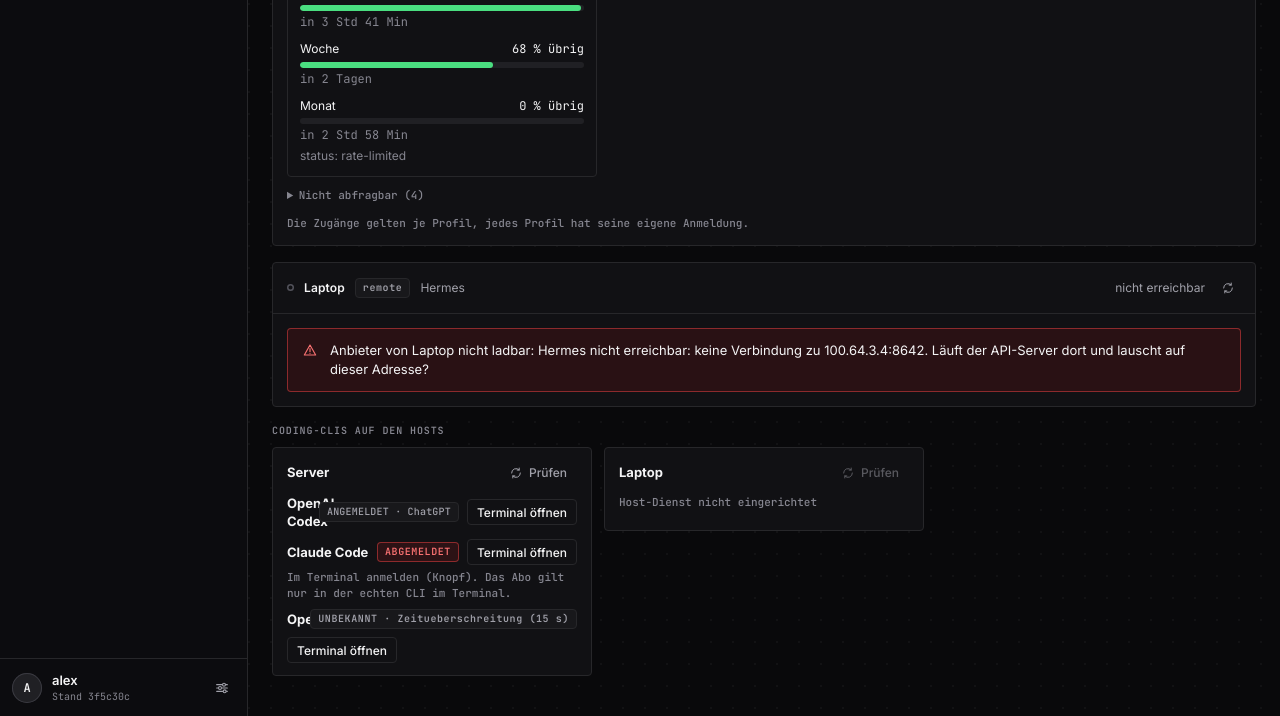
Test case: CliPanel › Prüfen ruft refresh per POST und zeigt das neue Ergebnis
(page scrolled)
Check: the text "ANGEMELDET · ChatGPT" is shown, box [319, 502, 459, 522]
Click the 1st button "Prüfen" at (538,472), box [499, 460, 577, 486]
(page scrolled)
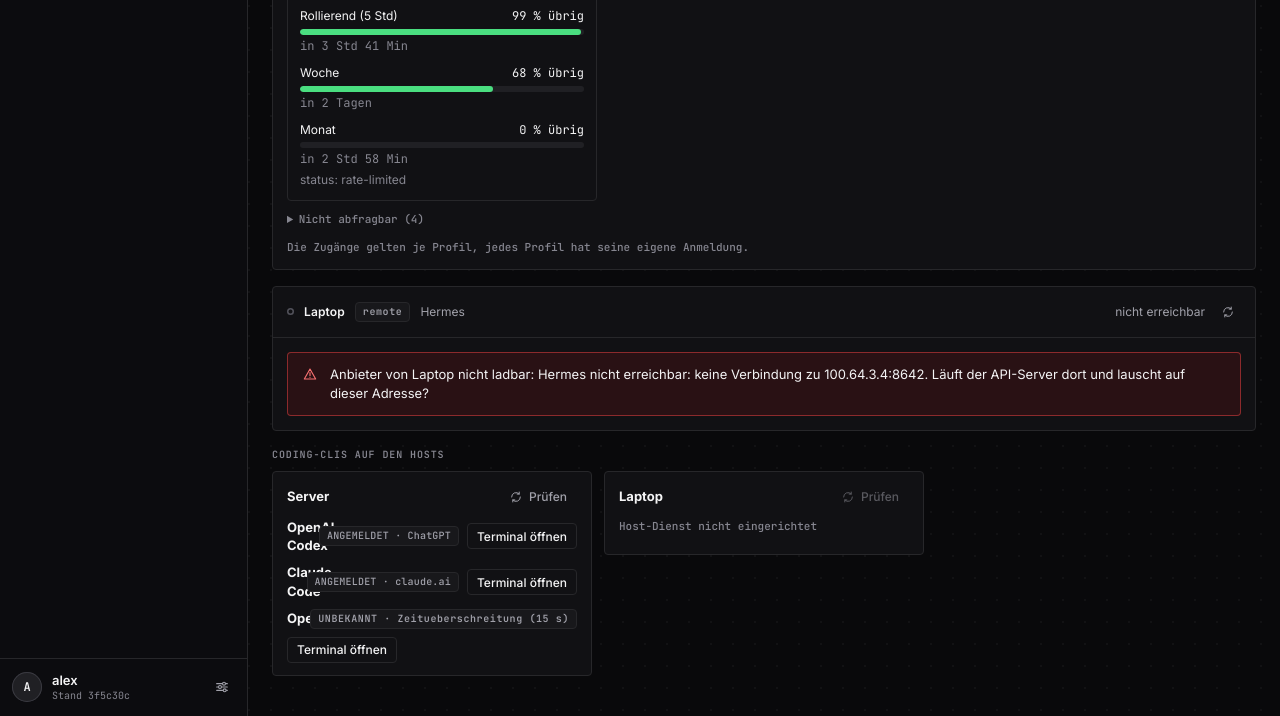
Check: the text "ABGEMELDET" is gone
Check: the text "ANGEMELDET · claude.ai" is shown, box [306, 572, 459, 592]
